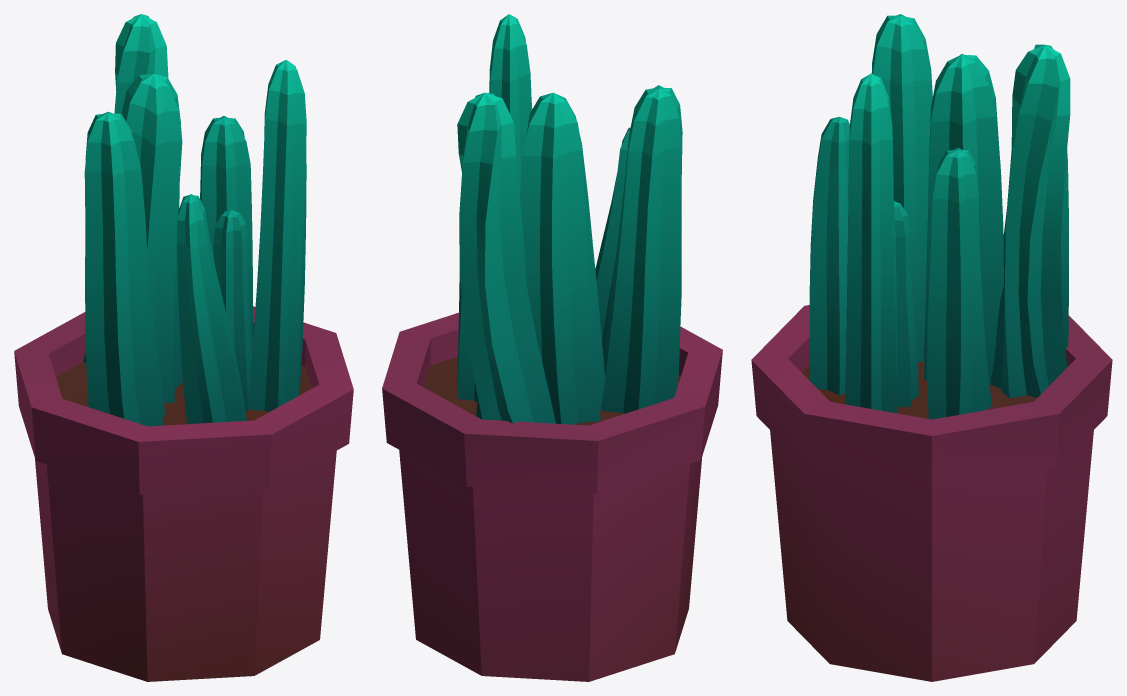
Rendered from Plant_02.fbx.
The picture shows the model from 3 angles, left to right: view 1: azimuth 30°, elevation 25°; view 2: azimuth 150°, elevation 25°; view 3: azimuth 270°, elevation 25°; orthographic projection. The views are drawn at different scales.
Visible parts, largest first — view 1: Plant_02; view 2: Plant_02; view 3: Plant_02.
Part boxes in pixels (<box>): Plant_02: <box>14,14,353,681</box>; Plant_02: <box>382,14,722,681</box>; Plant_02: <box>751,14,1112,681</box>.
Bounding box in the file's own units: 65.88 × 118 × 65.88.
